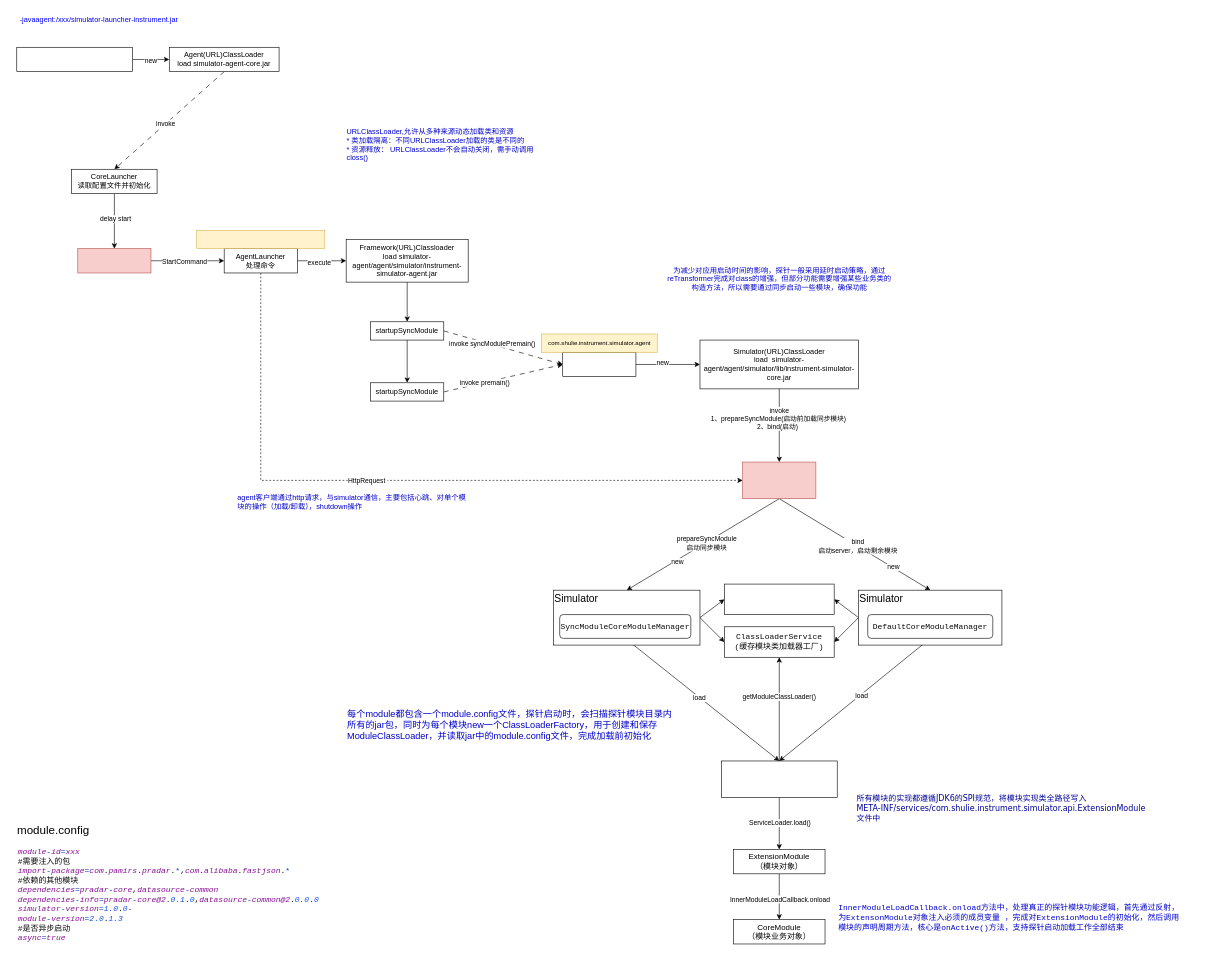
Image size: 1219x961. Some labels were removed from this diagram. Each missing label, with the centre of its shape:
AgentLauncher 启动探针: the point at 599,364
AgentScheduler 定时拉取及调度命令: the point at 114,260
com.shulie.instrument.simulator .agent.core: the point at 260,239
EventListenerHandler: the point at 779,599
ModuleJarLoader (SPI机制): the point at 779,779
ProxyCoreServer (JettyCoreServer): the point at 779,480
simulator-launcher-instrument.jar premain: the point at 74,59
